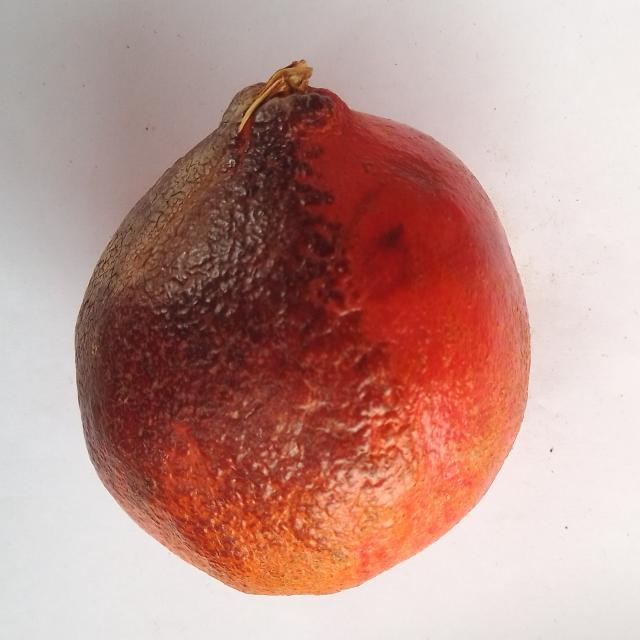overripe: (66, 55, 538, 600)
